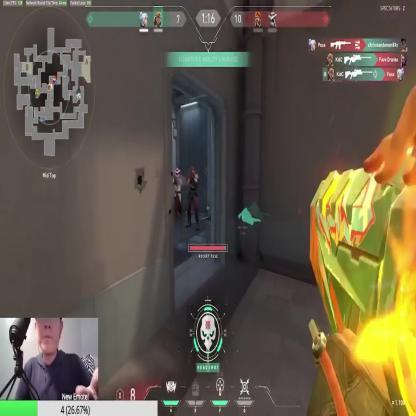enemy: (188, 168, 200, 230), (172, 166, 183, 220)
enemy_head: (174, 167, 180, 176), (191, 166, 194, 175)
